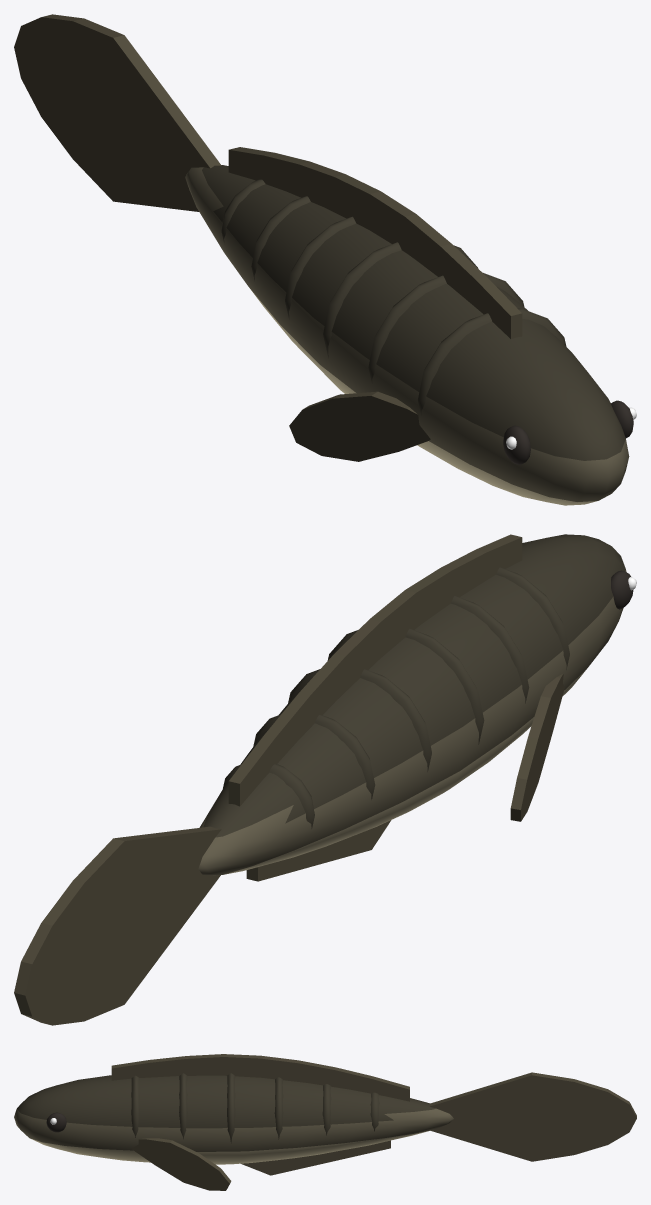
File: fish-snakehead.glb
3 views of the same model, one above another, from view 1: azimuth 30°, elevation 25°; view 2: azimuth 150°, elevation 25°; view 3: azimuth 270°, elevation 25° (orthographic). The views are drawn at different scales.
Parts seen in each view (by area): view 1: fish; view 2: fish; view 3: fish.
Part boxes in pixels (x1,y1,x2,y2): fish: [14, 14, 636, 505]; fish: [14, 534, 636, 1025]; fish: [14, 1054, 636, 1190].
Size of the model in its own units: 0.1228 by 0.1137 by 0.541.
